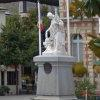Statue: (34, 4, 77, 81)
